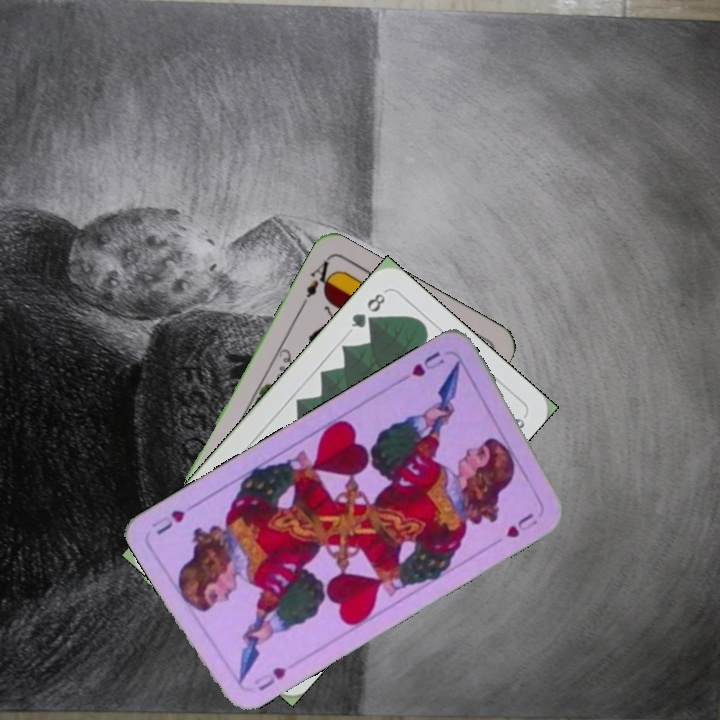EA: (297, 257, 338, 310)
G8: (346, 289, 388, 331)
HU: (407, 347, 447, 380), (249, 663, 289, 694)
